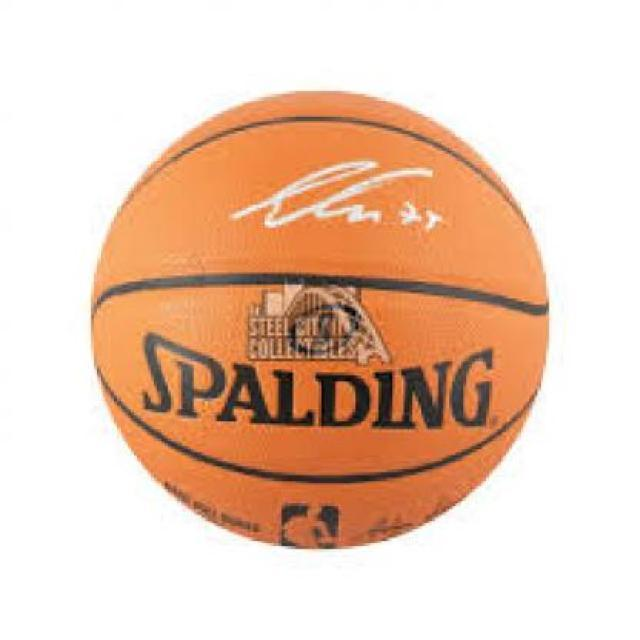basketball: (91, 88, 548, 548)
